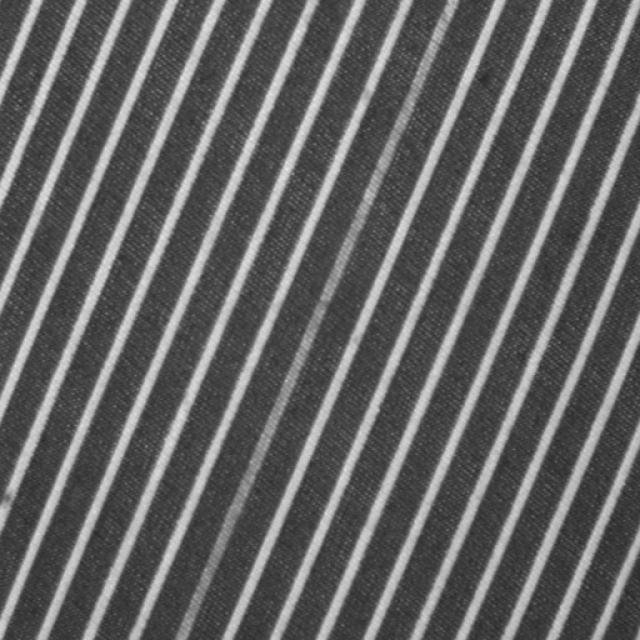Stain-Defect: (175, 0, 459, 639), (281, 420, 318, 498)
